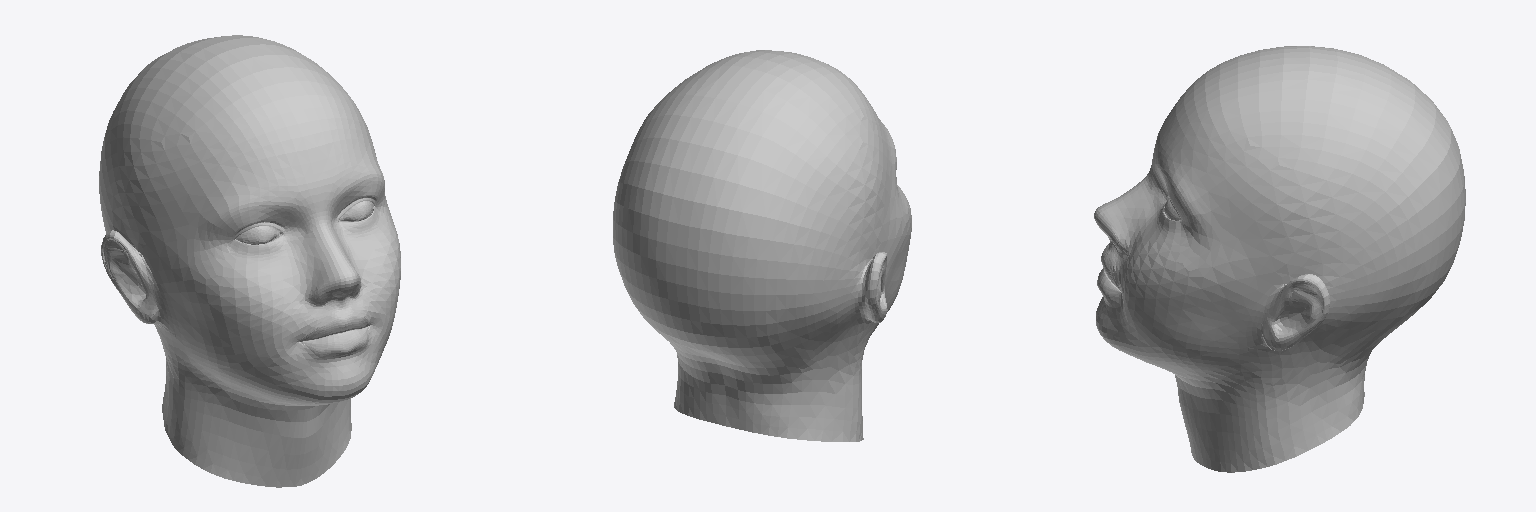
The model's file is ModelsFace.obj.
3 renders of one model, left to right at view 1: azimuth 30°, elevation 25°; view 2: azimuth 150°, elevation 25°; view 3: azimuth 270°, elevation 25°, orthographic.
Parts seen in each view (by area): view 1: FaceGen; view 2: FaceGen; view 3: FaceGen.
Boxes of the visible parts, box(x1,y1,x2,y2) form: FaceGen: box(99, 35, 400, 487); FaceGen: box(613, 50, 911, 441); FaceGen: box(1094, 46, 1465, 472).
Bounding box in the file's own units: 198 × 283 × 241.